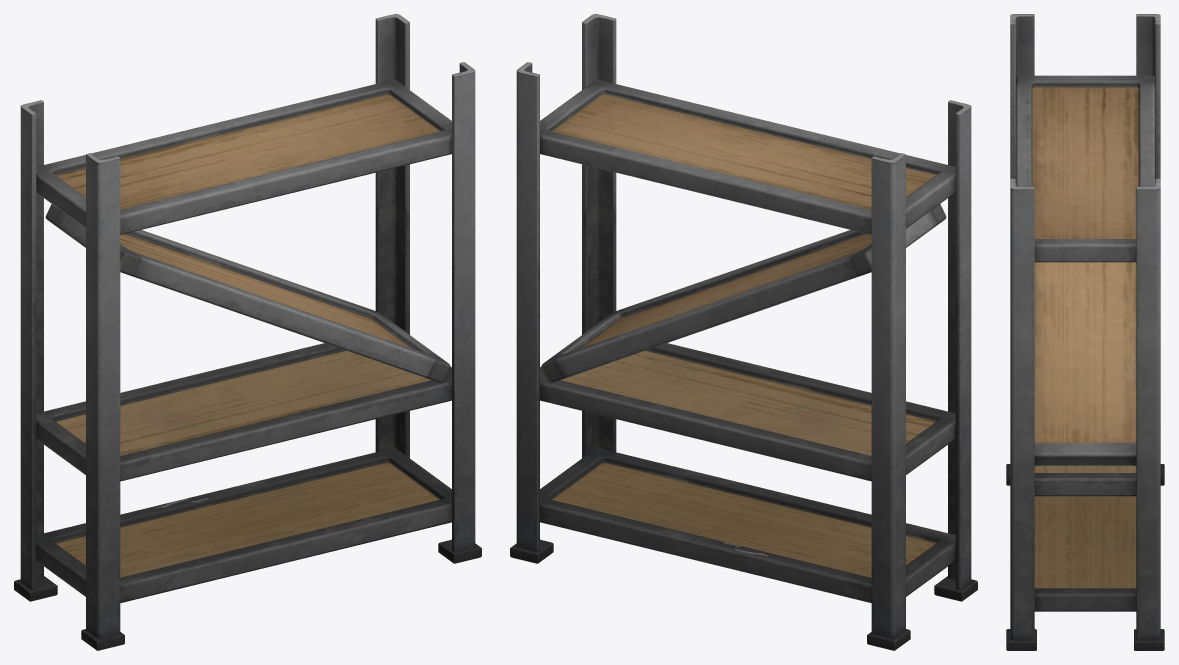
The model's file is MetalShelf2.fbx.
The picture shows the model from 3 angles, left to right: view 1: azimuth 30°, elevation 25°; view 2: azimuth 150°, elevation 25°; view 3: azimuth 270°, elevation 25°; orthographic projection. The views are drawn at different scales.
Parts seen in each view (by area): view 1: Sm_MetalShelf_02; view 2: Sm_MetalShelf_02; view 3: Sm_MetalShelf_02.
Boxes of the visible parts, x1=… form: Sm_MetalShelf_02: x1=14, y1=14, x2=481, y2=650; Sm_MetalShelf_02: x1=510, y1=14, x2=977, y2=650; Sm_MetalShelf_02: x1=1006, y1=14, x2=1164, y2=650.
Bounding box in the file's own units: 111 × 134 × 41.72.
1 material, 1 textured.
